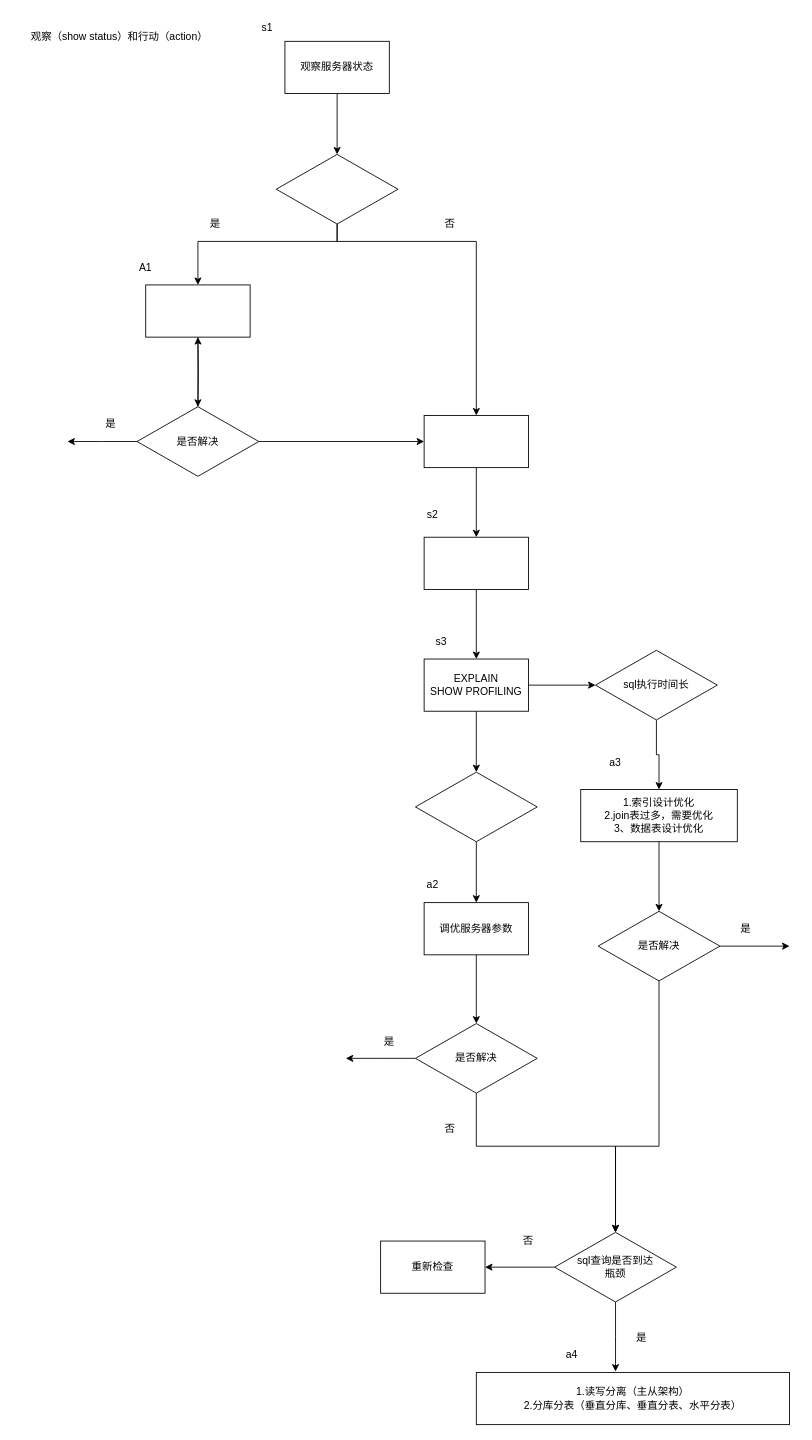
The diagram is 812 pixels wide and 1440 high, and some of its shapes have lost their labels. The shapes that lost their labels are listed below. From the top down, each one's centre as x and y in pixels, then its label:
At (336,189): "是否存在 周期性波动".
At (197,310): "加缓存 更改缓存失效策略".
At (476,441): "仍有不规则延迟 或卡顿".
At (476,562): "开启慢查询".
At (476,806): "sql等待时间长".
